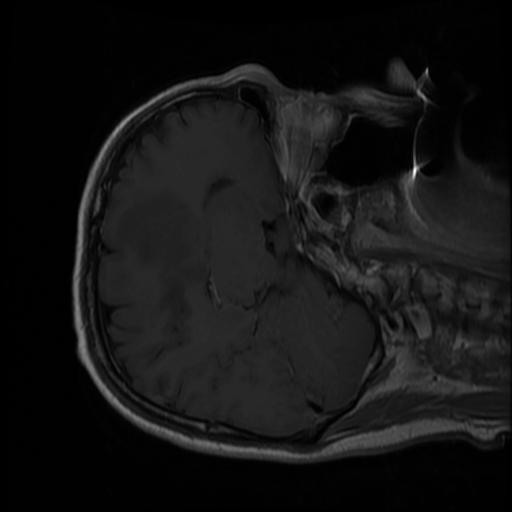glioma: (117, 188, 193, 324)
